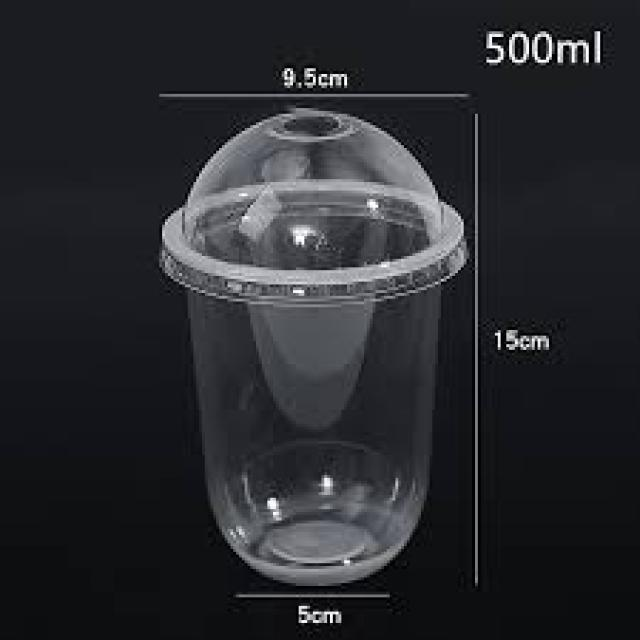bottle: (190, 207, 439, 592)
